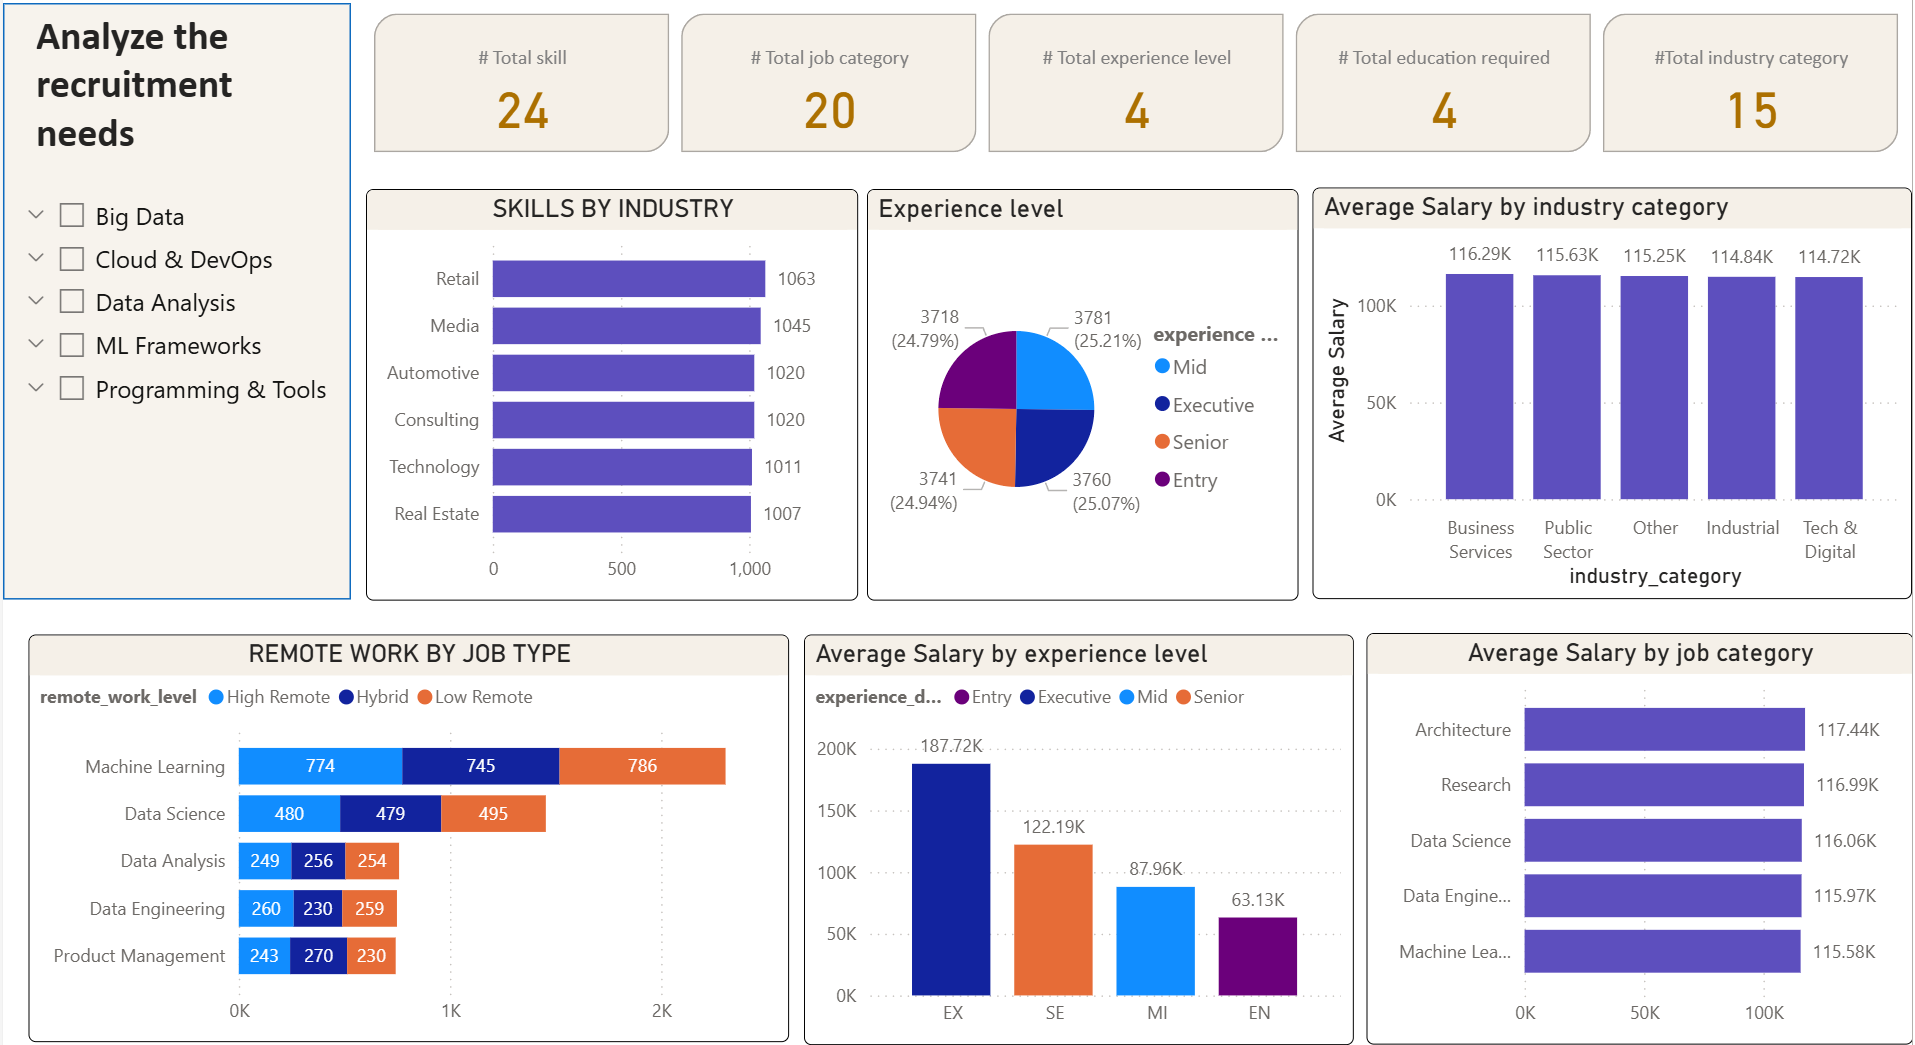

This screenshot's page, from the dashboard's own definition file:
{"tool":"powerbi","page":{"name":"phân tích nhu cầu tuyển dụng của công ty ","canvas":[1280,720],"ordinal":2},"visuals":[{"type":"barChart","title":"Average Salary by job category","fields":{"Y":["Table.Average Salary"],"Category":["DIM_JOBTITLES.job_category"]},"box":[914.1,430.7,366.3,275.7],"z":0},{"type":"barChart","title":"REMOTE WORK BY JOB TYPE","fields":{"Category":["DIM_JOBTITLES.job_category"],"Y":["Count(Fact_Jobs.job_id)"],"Series":["Fact_Jobs.remote_work_level"]},"box":[16.7,431.7,510,273.3],"z":1000},{"type":"barChart","title":"SKILLS BY INDUSTRY","fields":{"Category":["DIM_INDUSTRIES.industry"],"Y":["Count(Fact_Jobs.job_id)"]},"box":[243,132.4,330.1,275.7],"z":2000},{"type":"columnChart","title":"Average Salary by experience level ","fields":{"Category":["DIM_EXPERIENCELEVELS.experience_level"],"Y":["Table.Average Salary"],"Series":["DIM_EXPERIENCELEVELS.experience_description"]},"box":[536.7,431.7,368.3,275],"z":3000},{"type":"columnChart","title":"Average Salary by industry category","fields":{"Y":["Table.Average Salary"],"Category":["DIM_INDUSTRIES.industry_category"]},"box":[878,132,402,276],"z":4000},{"type":"cardVisual","title":"Average Salary","fields":{"Data":["CountNonNull(DIM_SKILL.skill_name)","CountNonNull(DIM_JOBTITLES.job_category)","CountNonNull(DIM_EXPERIENCELEVELS.experience_level)","Count(DIM_EDUCATION.education_required)","CountNonNull(DIM_INDUSTRIES.industry_category)"]},"box":[243.3,15,1036.7,93.3],"z":5000},{"type":"pieChart","title":"Experience level","fields":{"Y":["CountNonNull(Fact_Jobs.experience_level)"],"Category":["DIM_EXPERIENCELEVELS.experience_description"]},"box":[579.4,132.4,289.3,275.7],"z":6000},{"type":"shape","box":[0,8.3,233.3,400],"z":7000},{"type":"slicer","fields":{"Values":["DIM_SKILL.skill_category","DIM_SKILL.skill_name"]},"box":[0.9,130.6,232.1,300.2],"z":8000},{"type":"textbox","box":[16.7,8.3,205,200],"z":9000}]}

Visuals, with their boxes on the page's 1280x720 design canvas (x1, y1, x2, y2). These are canvas units, not pixel positions in the 1915x1045 screenshot, which may show the page scaled, cropped or inside an application window:
"Average Salary by job category" barChart: 914,431,1280,706
"REMOTE WORK BY JOB TYPE" barChart: 17,432,527,705
"SKILLS BY INDUSTRY" barChart: 243,132,573,408
"Average Salary by experience level " columnChart: 537,432,905,707
"Average Salary by industry category" columnChart: 878,132,1280,408
"Average Salary" cardVisual: 243,15,1280,108
"Experience level" pieChart: 579,132,869,408
shape: 0,8,233,408
slicer - DIM_SKILL.skill_category x DIM_SKILL.skill_name: 1,131,233,431
textbox: 17,8,222,208
